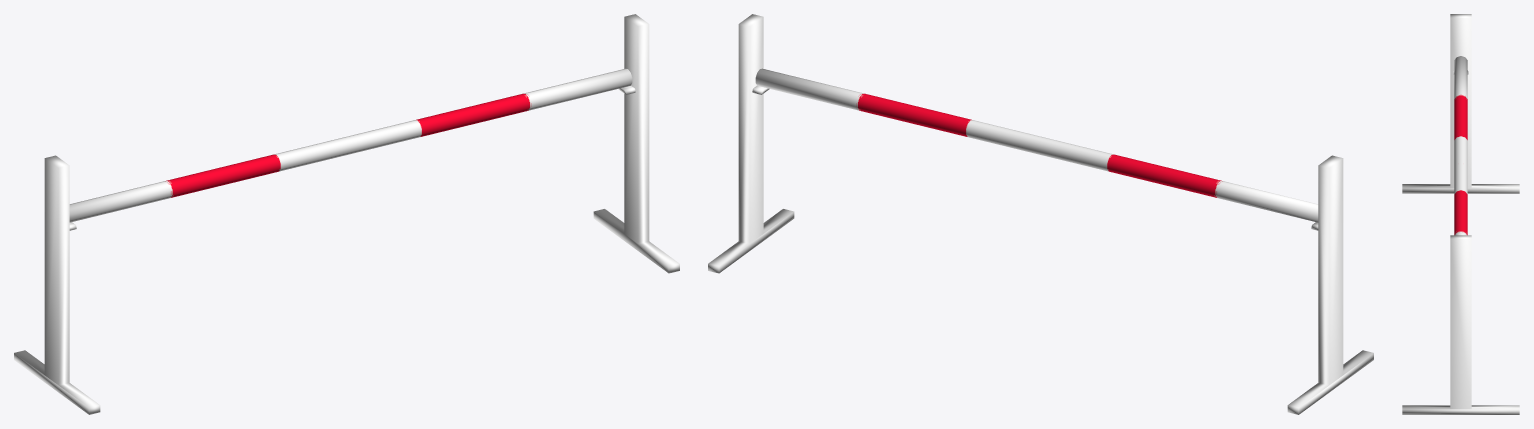
File: obstacle_wide.fbx
3 views of the same model, side by side, from view 1: azimuth 30°, elevation 25°; view 2: azimuth 150°, elevation 25°; view 3: azimuth 270°, elevation 25° (orthographic). The views are drawn at different scales.
Parts seen in each view (by area): view 1: Cube, Cylinder; view 2: Cube, Cylinder; view 3: Cube, Cylinder.
Boxes of the visible parts, x1=… form: Cube: x1=14, y1=14, x2=679, y2=414; Cylinder: x1=69, y1=68, x2=632, y2=222; Cube: x1=708, y1=14, x2=1373, y2=414; Cylinder: x1=755, y1=68, x2=1318, y2=222; Cube: x1=1402, y1=14, x2=1519, y2=414; Cylinder: x1=1454, y1=56, x2=1467, y2=235.
Bounding box in the file's own units: 345 × 125 × 75.95.
